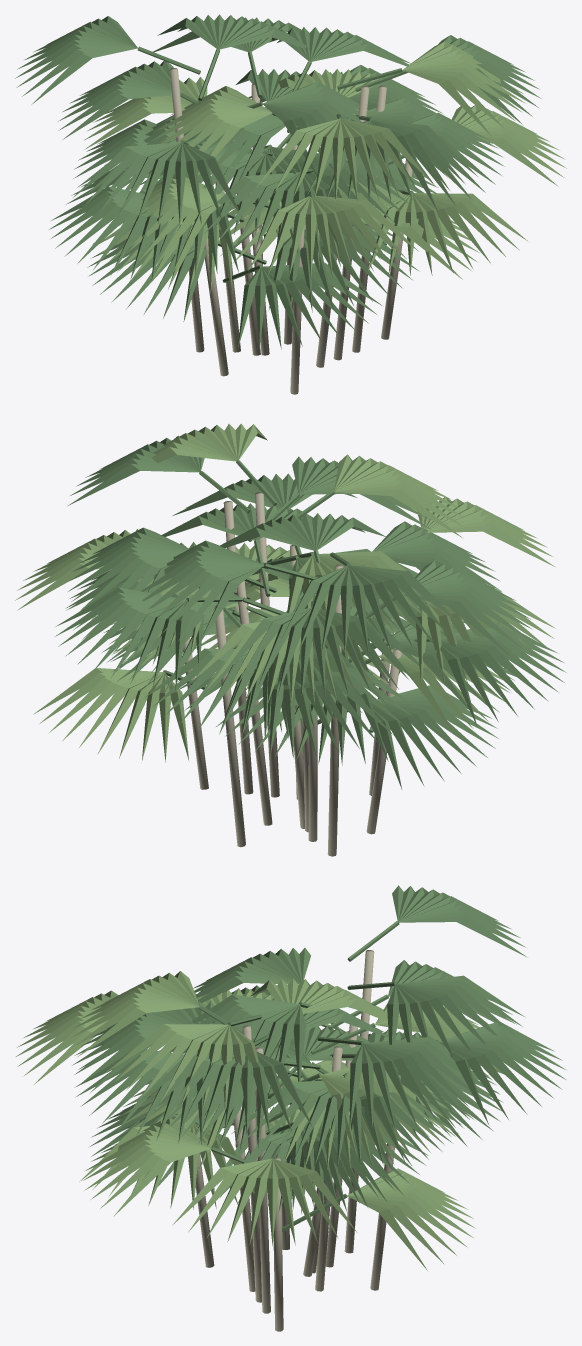
The model's file is grove-specimen-17.glb.
3 renders of one model, top to bottom at view 1: azimuth 30°, elevation 25°; view 2: azimuth 150°, elevation 25°; view 3: azimuth 270°, elevation 25°, orthographic. The views are drawn at different scales.
Visible parts, largest first — view 1: grove-specimen-17; view 2: grove-specimen-17; view 3: grove-specimen-17.
Boxes of the visible parts, x1,y1,x2,y2 form: grove-specimen-17: [15, 14, 566, 394]; grove-specimen-17: [15, 423, 566, 856]; grove-specimen-17: [16, 885, 565, 1331].
Size of the model in its own units: 3.04 by 1.82 by 2.87.
